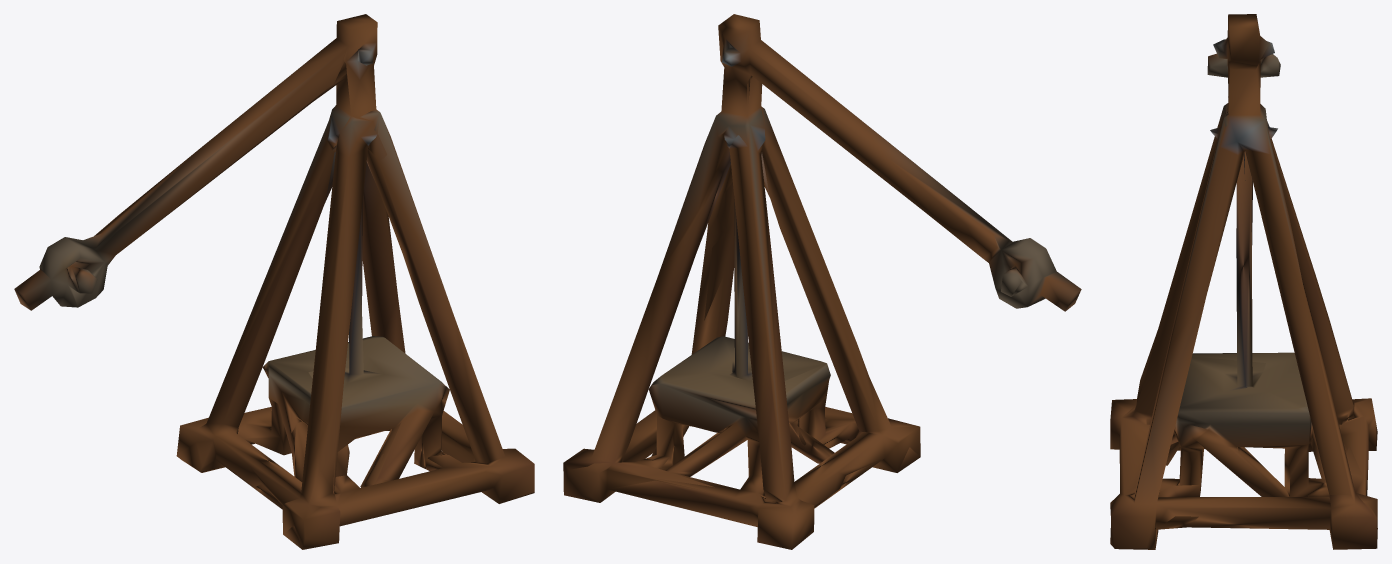
File: gen3d-trebuchet-lod1.glb
3 renders of one model, left to right at view 1: azimuth 30°, elevation 25°; view 2: azimuth 150°, elevation 25°; view 3: azimuth 270°, elevation 25°, orthographic. The views are drawn at different scales.
Visible parts, largest first — view 1: part_0; view 2: part_0; view 3: part_0.
Boxes of the visible parts, bbox=[...] form: part_0: bbox=[14, 14, 534, 549]; part_0: bbox=[563, 14, 1081, 549]; part_0: bbox=[1110, 14, 1377, 549].
Size of the model in its own units: 1.04 by 0.9997 by 0.5122.
